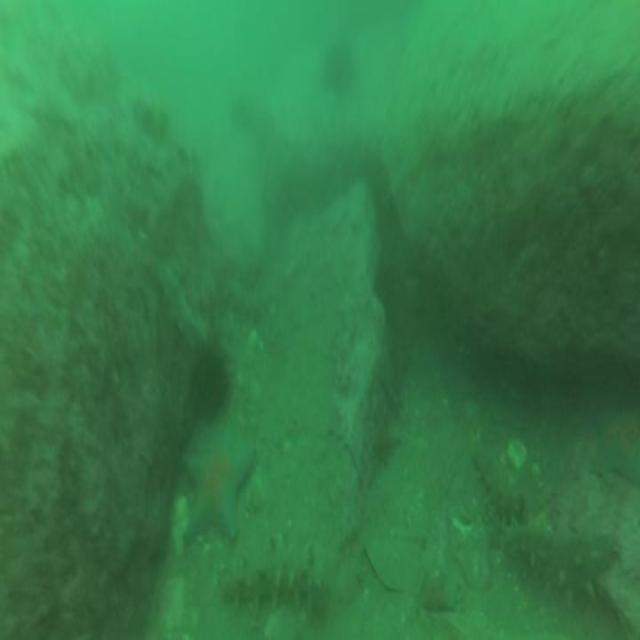echinus: (182, 335, 236, 431), (318, 36, 358, 103)
holothurian: (495, 520, 623, 610), (217, 536, 337, 620), (470, 441, 574, 532), (215, 270, 269, 324)
starfish: (178, 417, 258, 555)
